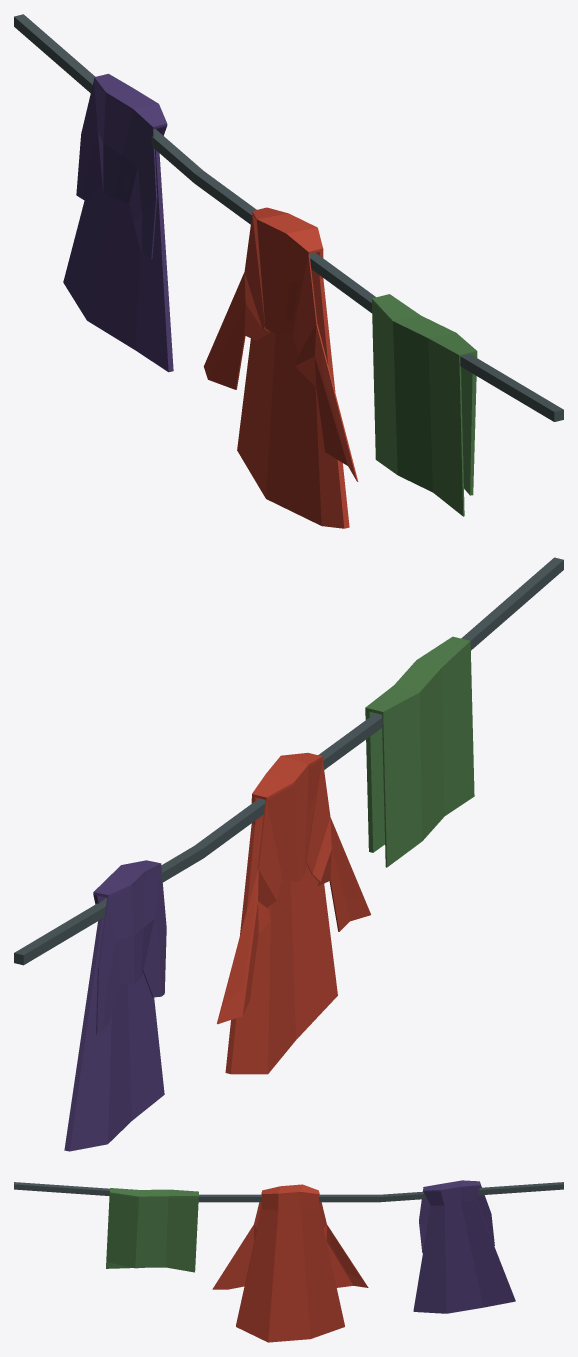
File: String of Clothes.fbx
3 renders of one model, top to bottom at view 1: azimuth 30°, elevation 25°; view 2: azimuth 150°, elevation 25°; view 3: azimuth 270°, elevation 25°, orthographic. The views are drawn at different scales.
Parts seen in each view (by area): view 1: string; view 2: string; view 3: string.
Part boxes in pixels (x1,y1,x2,y2): string: (14,14,563,528); string: (14,557,563,1151); string: (14,1180,563,1342).
Bounding box in the file's own units: 55.75 × 381 × 1235.
